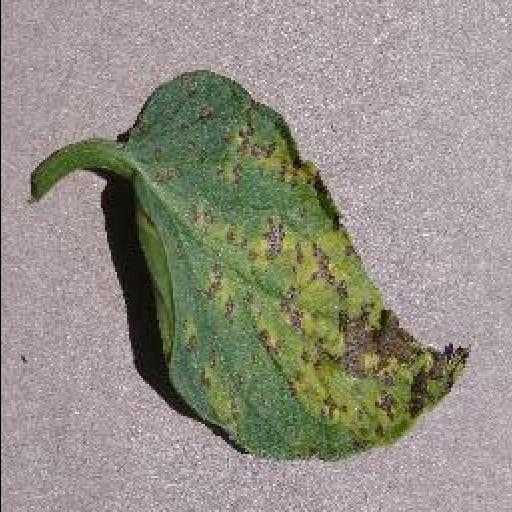disease_tomato: (114, 72, 468, 462)
